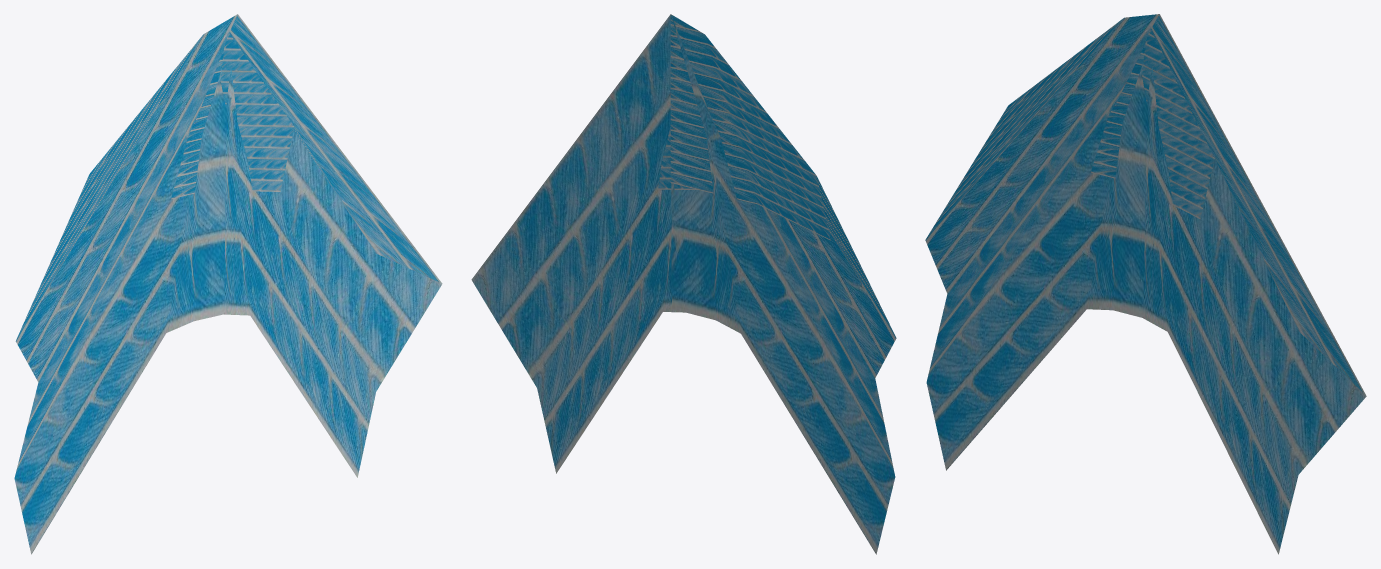
The picture shows the model from 3 angles, left to right: view 1: azimuth 30°, elevation 25°; view 2: azimuth 150°, elevation 25°; view 3: azimuth 330°, elevation 25°; orthographic projection. The views are drawn at different scales.
Parts seen in each view (by area): view 1: Origami_Model_25; view 2: Origami_Model_25; view 3: Origami_Model_25.
Part boxes in pixels (x1,y1,x2,y2): Origami_Model_25: [14, 14, 442, 554]; Origami_Model_25: [471, 14, 896, 554]; Origami_Model_25: [925, 14, 1366, 554].
Bounding box in the file's own units: 0.4218 × 0.4642 × 0.0065.
Materials: 1 (1 with a texture image).
